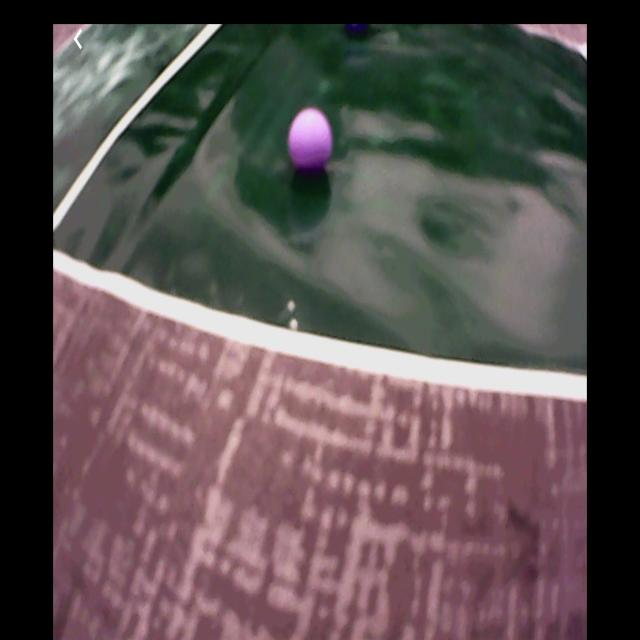ball: (288, 109, 334, 172)
